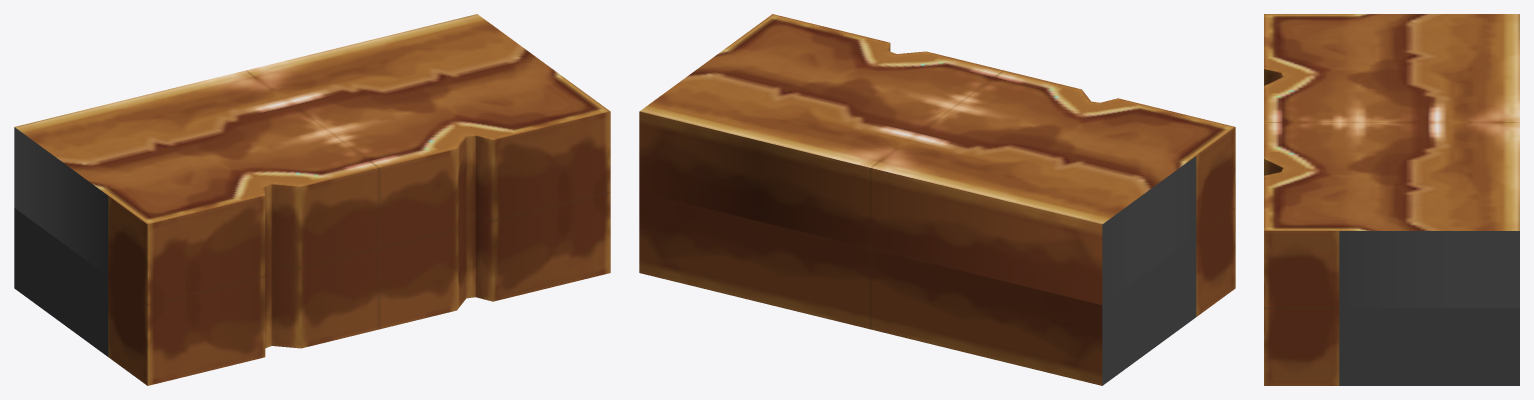
Rendered from wall_01.fbx.
The picture shows the model from 3 angles, left to right: view 1: azimuth 30°, elevation 25°; view 2: azimuth 150°, elevation 25°; view 3: azimuth 270°, elevation 25°; orthographic projection. The views are drawn at different scales.
Visible parts, largest first — view 1: wall_01; view 2: wall_01; view 3: wall_01.
Part boxes in pixels (<box>): wall_01: <box>14,14,610,385</box>; wall_01: <box>639,14,1235,385</box>; wall_01: <box>1264,14,1519,385</box>.
Size of the model in its own units: 3 by 1 by 1.5.
1 material, 1 textured.
